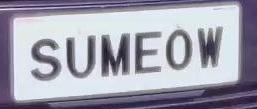0: (161, 24, 197, 78)
E: (131, 27, 166, 80)
M: (97, 29, 135, 83)
S: (26, 32, 65, 88)
U: (62, 32, 100, 85)
W: (196, 20, 225, 77)
